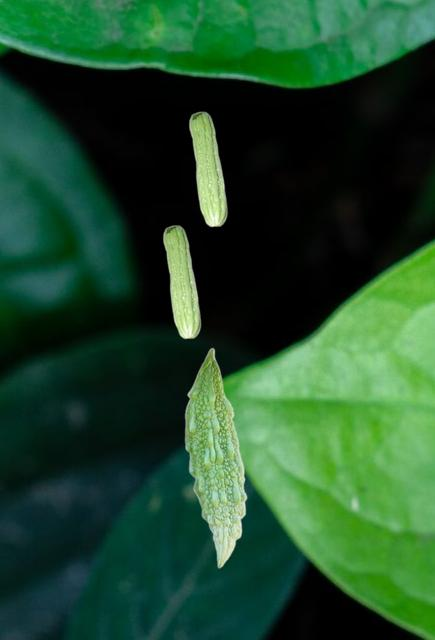ampalaya: (184, 347, 249, 570), (188, 109, 228, 227), (162, 223, 201, 339)
